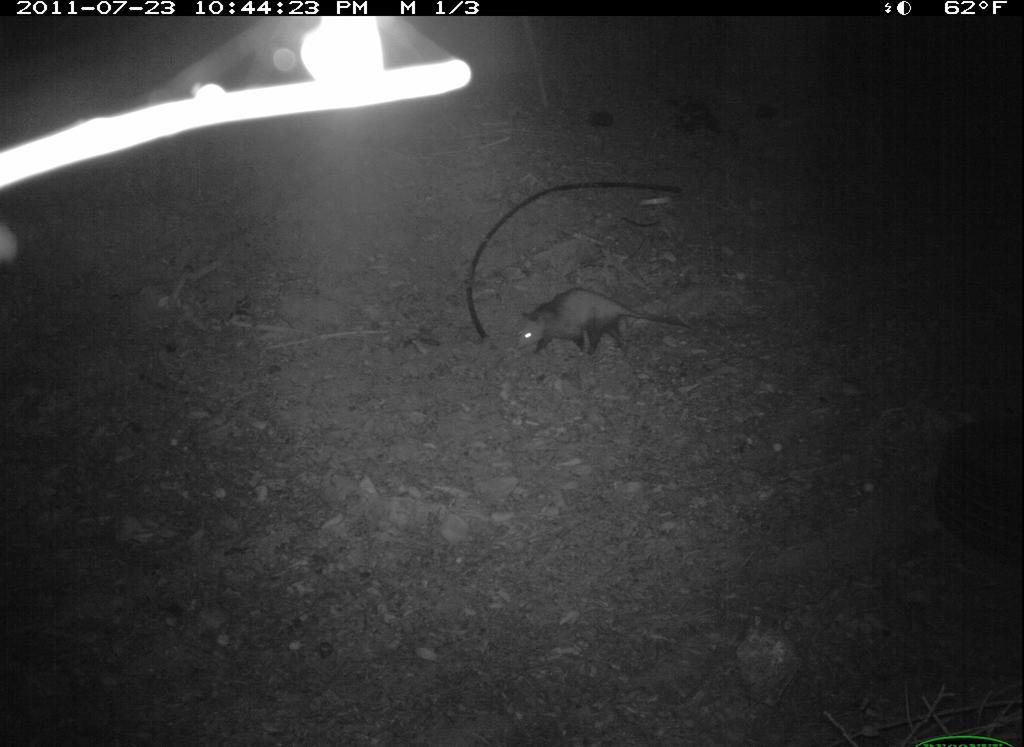opossum: (504, 277, 702, 378)
